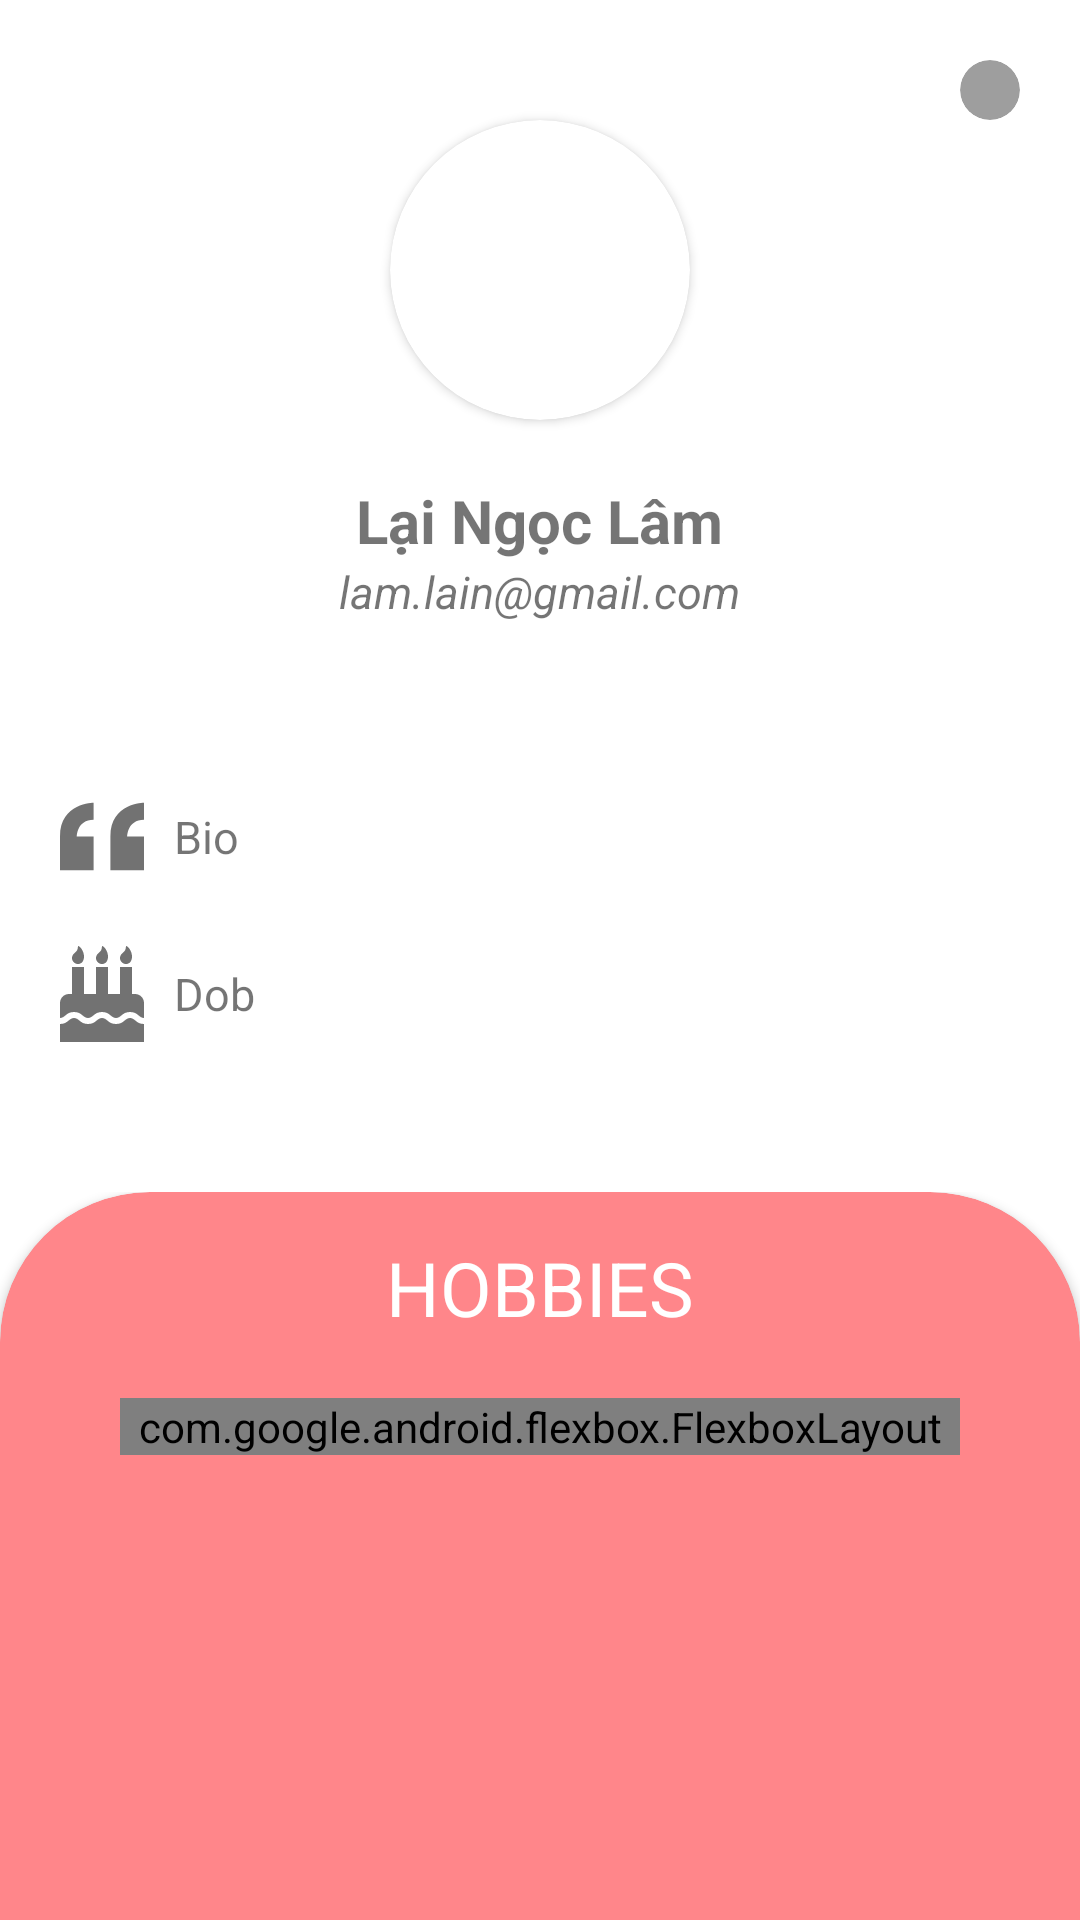

Icons on this 1080*1920 Android screen, each with the point to tap as (x,y):
birthday cake: (102,994)
reverse double comma: (102,836)
